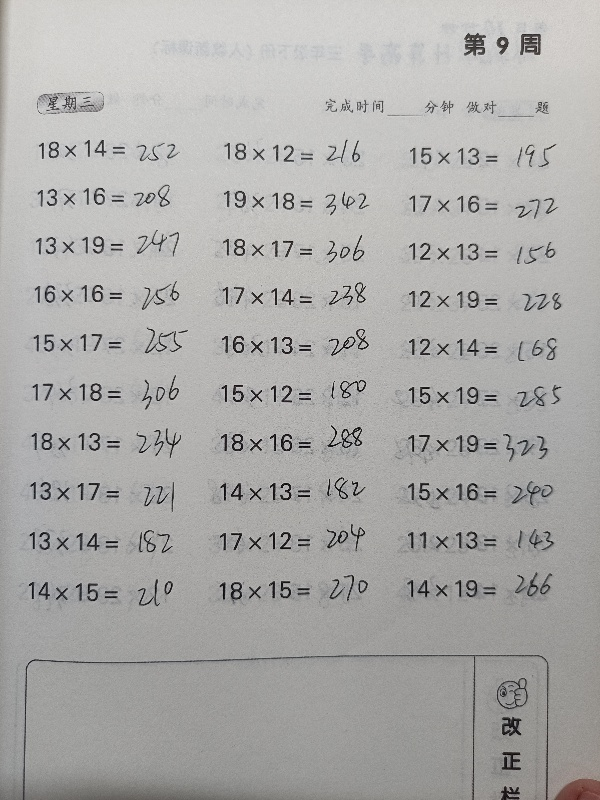equation: (399, 426, 579, 470), (212, 571, 392, 609), (29, 177, 209, 215), (30, 133, 210, 168), (20, 574, 200, 608), (399, 572, 579, 606), (20, 524, 200, 558), (400, 475, 580, 509), (211, 474, 391, 508), (22, 474, 202, 508), (23, 425, 203, 459), (215, 183, 395, 217), (400, 524, 580, 557), (210, 524, 390, 557), (212, 426, 392, 459), (401, 379, 581, 412), (210, 377, 390, 410), (25, 376, 205, 409), (213, 328, 393, 361), (25, 326, 205, 359), (401, 283, 581, 316), (214, 279, 394, 312), (25, 277, 205, 310), (399, 235, 579, 268), (214, 231, 394, 264), (28, 229, 208, 262), (401, 188, 581, 221), (402, 140, 582, 173), (215, 136, 395, 169), (400, 331, 580, 363)
